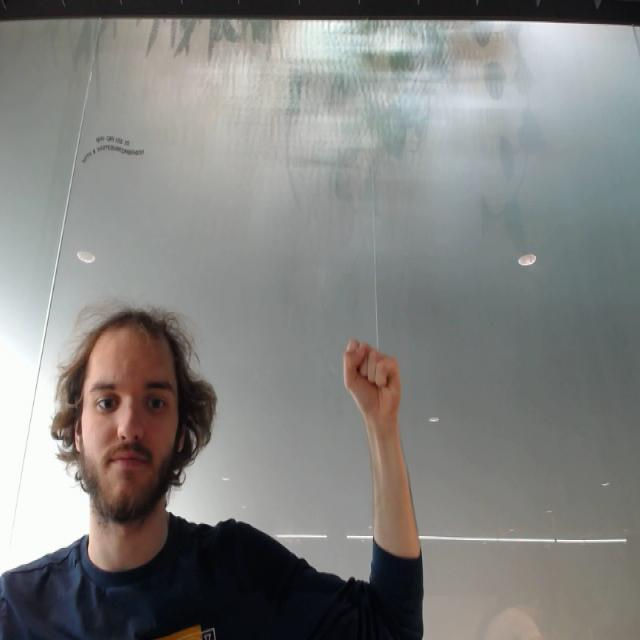stop: (340, 333, 406, 431)
